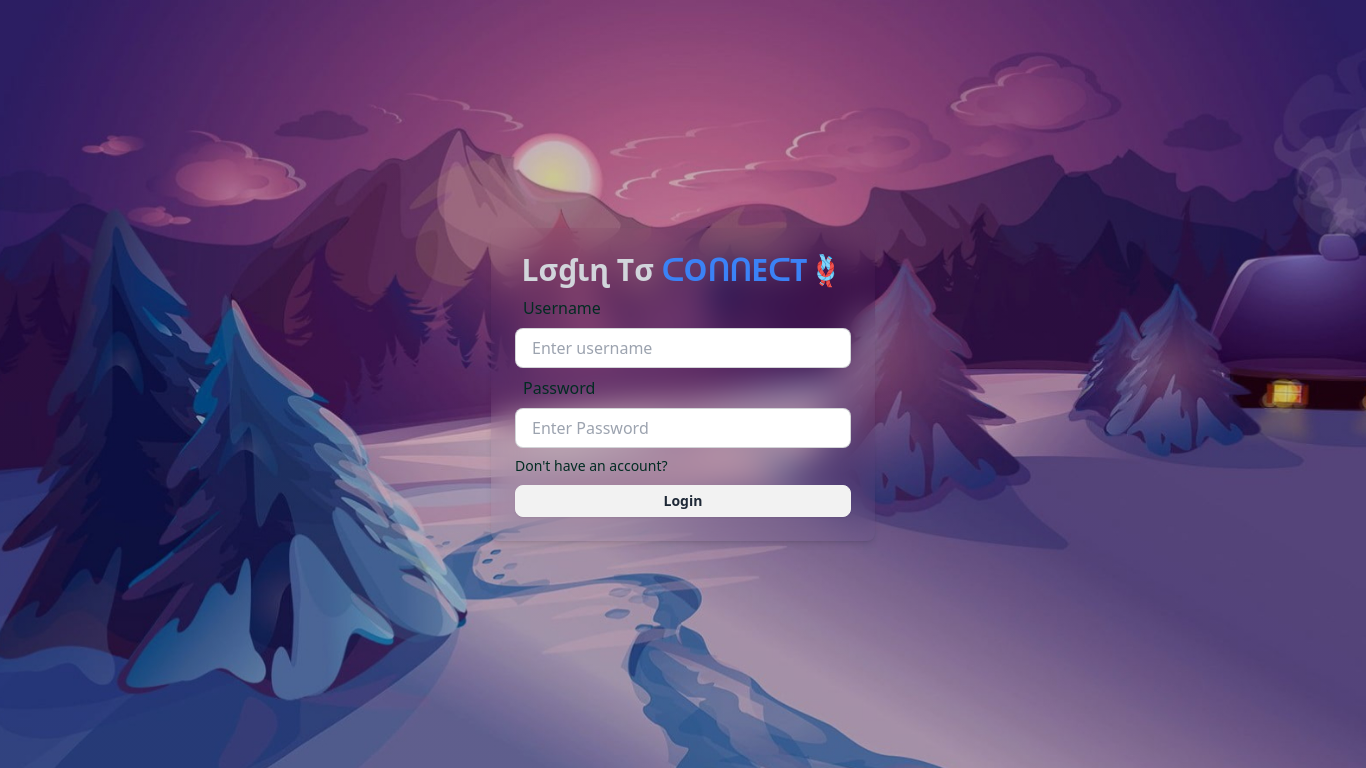
Test: App routing › keeps signup reachable from login
What coordinates should you click on to do the following:
click the link "Don't have an account?"
I would click on:
 (591, 466)
Its box is [515,456,668,476].
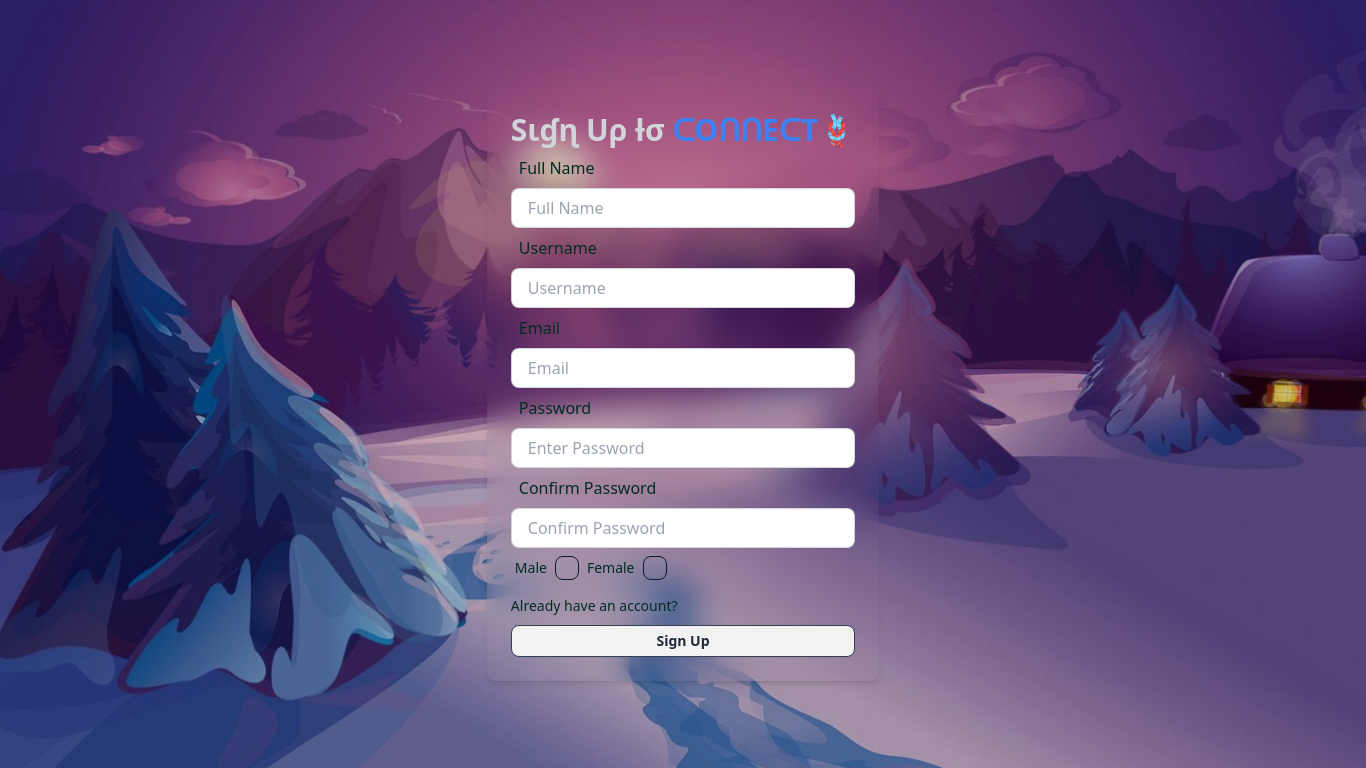
Check: the field labelled "Full Name" is shown, box [511,188,855,228]
Check: the button "Sign Up" is shown, box [511,624,855,656]
